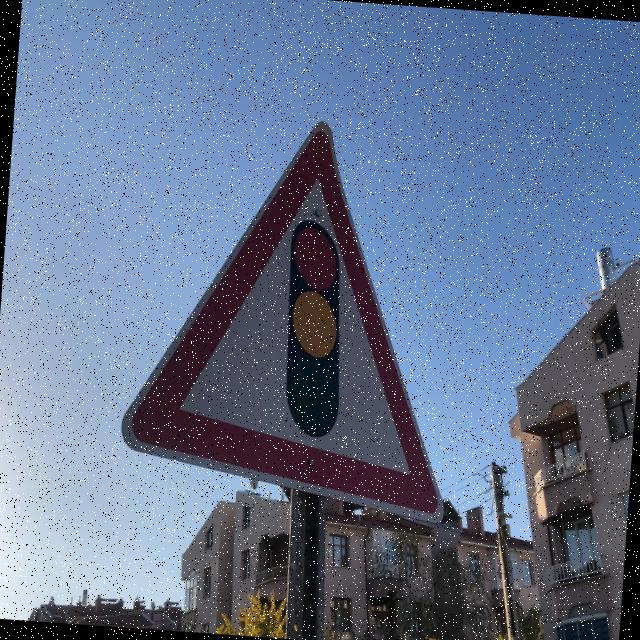light_traffic: (121, 104, 474, 524)
